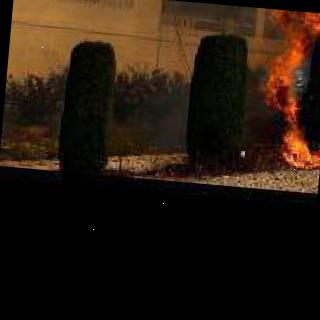fire: (247, 8, 320, 156)
